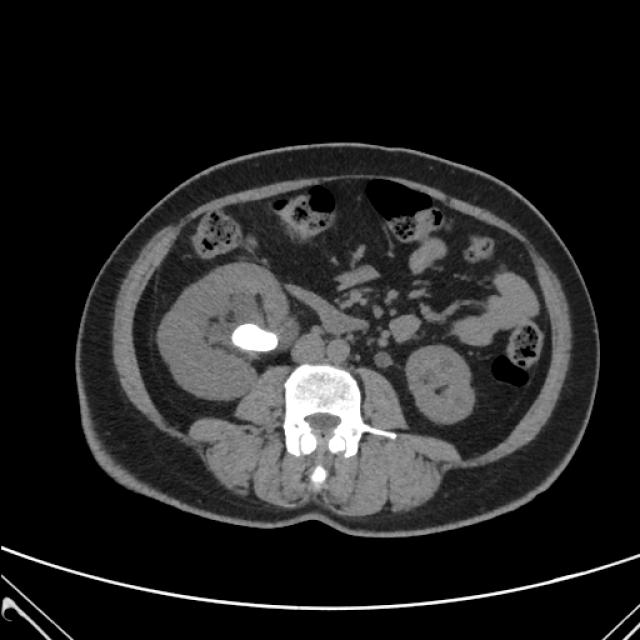kidney: (149, 253, 296, 408), (402, 338, 484, 431)
stone: (229, 314, 284, 361)
